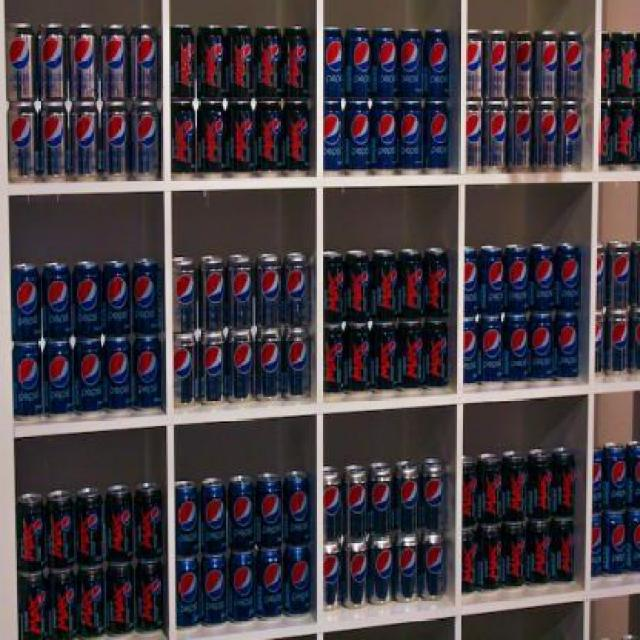Drinks: (5, 22, 38, 102), (37, 101, 69, 182), (68, 101, 100, 182), (100, 101, 132, 181), (130, 99, 161, 181), (6, 102, 37, 183), (128, 22, 160, 100), (70, 262, 102, 340), (98, 23, 130, 100), (100, 260, 132, 337), (46, 490, 76, 572), (37, 22, 68, 101), (68, 23, 99, 102), (73, 338, 104, 417), (132, 336, 163, 415), (42, 341, 73, 419), (102, 337, 133, 415), (16, 493, 46, 573), (41, 261, 70, 342), (196, 24, 227, 99), (105, 486, 134, 566), (134, 482, 163, 562), (252, 100, 282, 177), (76, 486, 104, 568), (282, 251, 312, 327), (224, 100, 253, 178), (197, 98, 225, 178), (12, 262, 40, 342), (199, 477, 227, 557), (281, 99, 310, 176), (13, 344, 42, 421), (197, 330, 226, 407), (227, 476, 256, 553), (46, 568, 77, 640), (134, 562, 164, 636), (197, 256, 226, 332), (254, 253, 283, 329), (282, 328, 312, 401), (132, 258, 160, 336), (254, 328, 283, 403), (226, 329, 254, 405), (77, 567, 106, 640), (282, 470, 309, 548), (226, 25, 254, 100), (226, 254, 254, 329), (343, 100, 371, 174), (106, 563, 134, 637), (256, 472, 282, 551), (399, 99, 426, 175), (17, 573, 48, 639), (397, 322, 425, 395), (282, 24, 309, 99), (371, 100, 398, 175), (371, 248, 398, 323), (398, 247, 425, 322), (200, 557, 228, 629), (255, 550, 283, 622), (342, 464, 368, 541), (254, 26, 281, 100), (368, 462, 394, 538), (420, 458, 446, 534), (527, 448, 553, 524), (175, 478, 199, 560), (283, 548, 311, 618), (345, 27, 372, 99), (170, 23, 195, 100), (172, 257, 197, 334), (173, 333, 198, 410), (395, 459, 420, 536), (503, 449, 528, 526), (425, 98, 450, 174), (346, 248, 371, 324), (228, 554, 255, 624), (171, 101, 195, 179), (532, 100, 558, 172), (371, 323, 397, 395), (483, 99, 508, 173), (508, 29, 534, 100), (558, 30, 584, 101), (504, 243, 530, 314), (530, 243, 556, 314), (606, 240, 632, 311), (424, 321, 450, 392), (478, 452, 502, 528), (398, 28, 424, 98), (502, 316, 528, 386), (345, 323, 370, 395), (424, 28, 450, 97), (610, 100, 636, 169), (553, 313, 579, 382), (368, 537, 394, 606), (508, 99, 532, 173), (425, 246, 449, 320), (555, 242, 580, 313), (175, 559, 200, 630), (394, 536, 420, 604), (373, 28, 398, 98), (480, 246, 505, 316), (342, 542, 368, 609), (421, 535, 447, 602), (558, 100, 582, 172), (485, 29, 509, 100), (534, 30, 558, 101), (529, 312, 553, 383), (553, 446, 576, 520), (605, 310, 630, 378), (612, 31, 636, 100), (526, 522, 551, 588), (604, 442, 627, 513), (502, 525, 527, 589), (478, 528, 502, 594), (551, 520, 575, 586), (324, 250, 345, 325), (480, 316, 502, 387), (324, 326, 345, 399), (603, 512, 626, 578), (324, 26, 344, 100), (323, 466, 342, 542), (462, 454, 480, 532), (323, 542, 342, 615), (325, 100, 343, 174), (466, 100, 483, 174), (467, 29, 484, 100), (463, 317, 479, 388), (465, 245, 480, 318), (462, 530, 478, 595), (592, 447, 605, 518), (591, 517, 603, 578)
